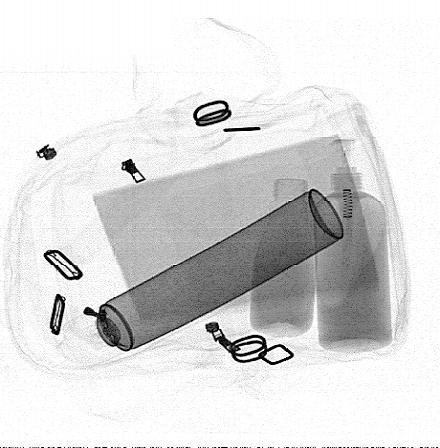Sprayer: (63, 188, 344, 369)
